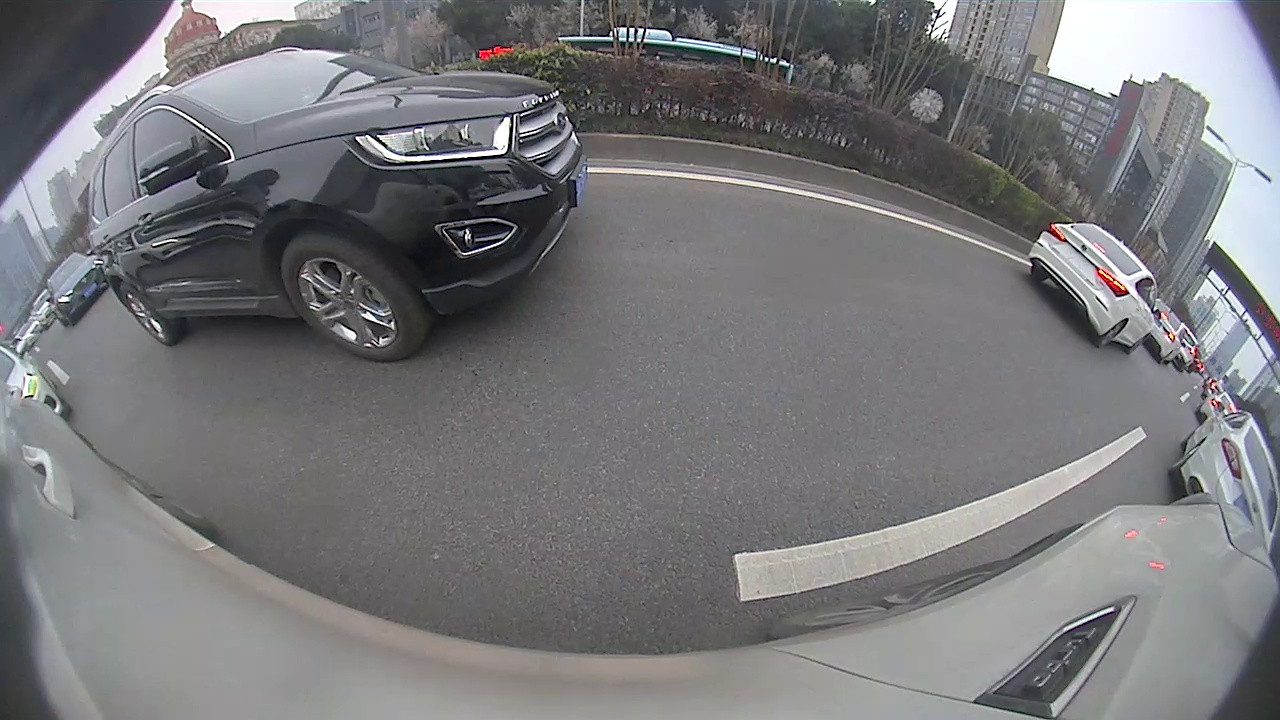car: (85, 46, 591, 364), (1026, 221, 1165, 357), (1169, 400, 1279, 553)
front: (281, 240, 415, 362)
rear: (118, 281, 175, 348), (1095, 321, 1126, 350)
